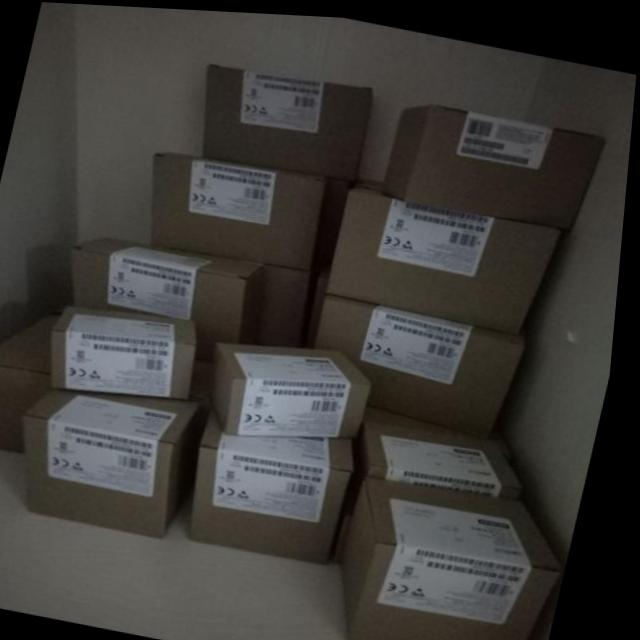box: (349, 472, 571, 640), (330, 181, 565, 330), (320, 290, 531, 434), (30, 388, 218, 538), (384, 101, 605, 221), (197, 404, 360, 561), (76, 234, 267, 360), (154, 148, 329, 267), (204, 61, 374, 177), (214, 339, 377, 434), (57, 305, 203, 397), (371, 417, 530, 492), (0, 313, 66, 452), (370, 400, 519, 451), (262, 262, 315, 343), (309, 263, 334, 344), (357, 173, 383, 187)
